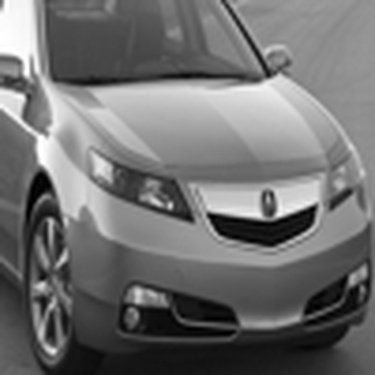car: (2, 1, 372, 371)
